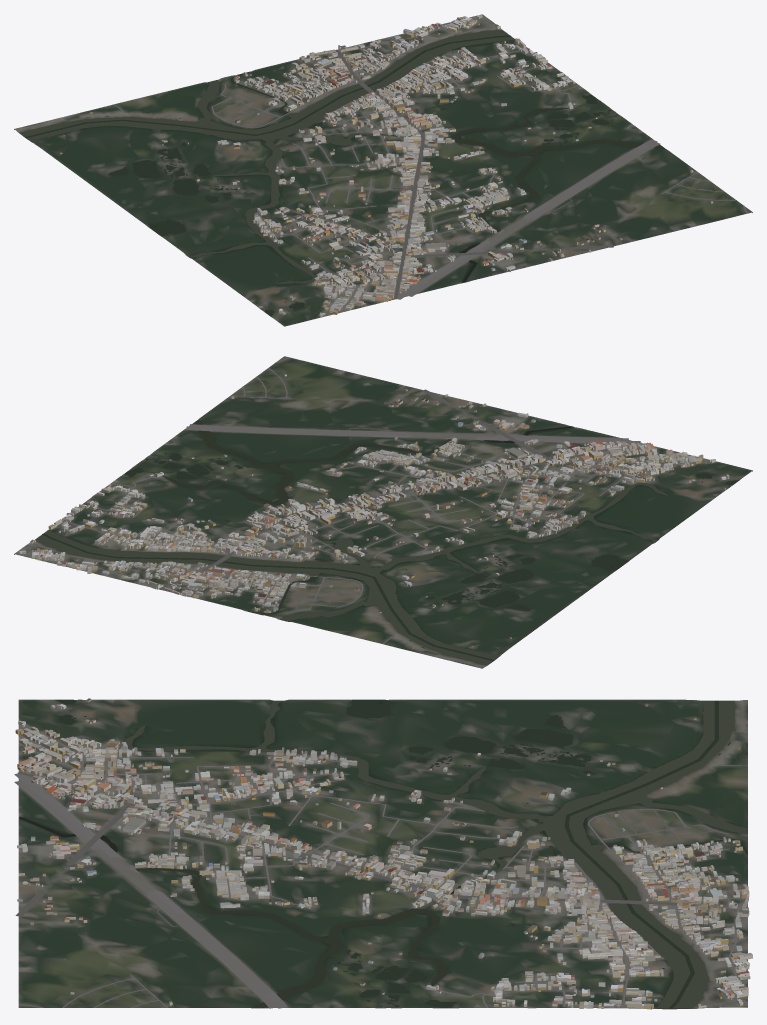
3 renders of one model, top to bottom at view 1: azimuth 30°, elevation 25°; view 2: azimuth 150°, elevation 25°; view 3: azimuth 270°, elevation 25°, orthographic. The views are drawn at different scales.
Parts seen in each view (by area): view 1: ground, buildings, water, roads; view 2: ground, buildings, water, roads; view 3: ground, buildings, water, roads.
Part boxes in pixels (box(x1,y1,x2,y2)): ground: box(14, 14, 752, 326); buildings: box(60, 15, 713, 317); water: box(19, 30, 665, 316); roads: box(113, 20, 747, 314); ground: box(14, 356, 752, 668); buildings: box(19, 374, 729, 648); water: box(35, 419, 738, 665); roads: box(24, 357, 706, 643); ground: box(18, 699, 747, 1009); buildings: box(15, 698, 752, 1009); water: box(19, 699, 747, 1009); roads: box(14, 726, 747, 1008).
Bounding box in the file's own units: 1404 × 20.2 × 1419.
